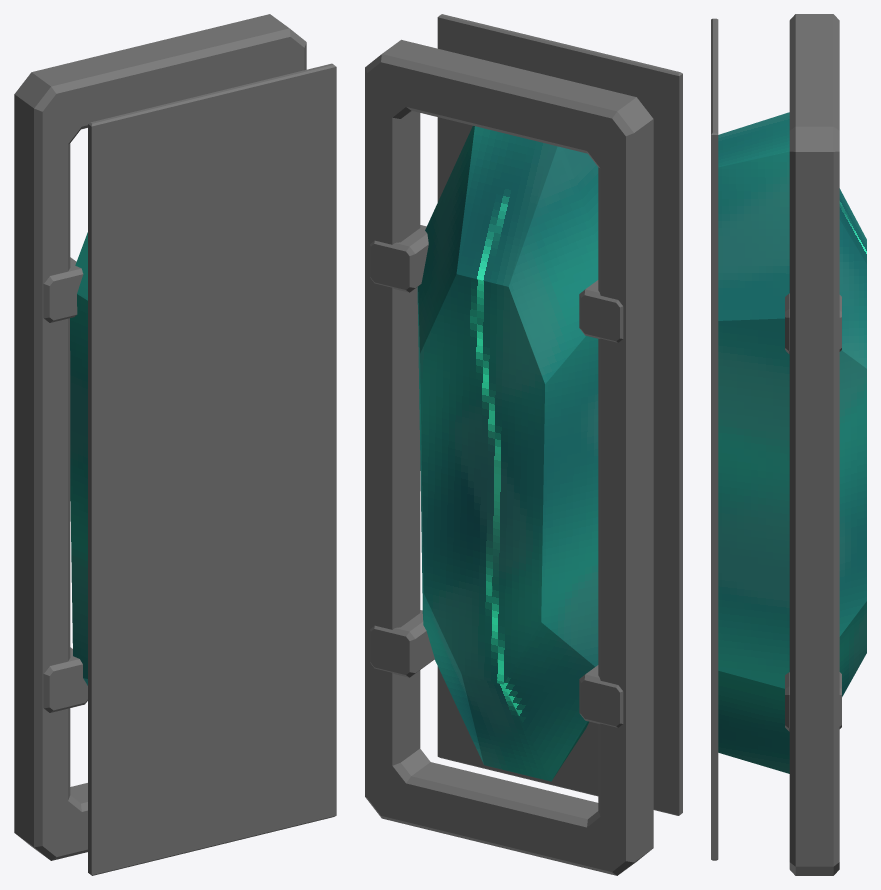
Rendered from relic.glb.
3 views of the same model, side by side, from view 1: azimuth 30°, elevation 25°; view 2: azimuth 150°, elevation 25°; view 3: azimuth 270°, elevation 25° (orthographic). The views are drawn at different scales.
Visible parts, largest first — view 1: Body.Interior, Body.Crystal; view 2: Body.Interior, Body.Crystal; view 3: Body.Crystal, Body.Interior.
Part boxes in pixels (x1=…): Body.Interior: x1=14, y1=14, x2=336, y2=875; Body.Crystal: x1=70, y1=232, x2=87, y2=685; Body.Interior: x1=365, y1=14, x2=682, y2=875; Body.Crystal: x1=417, y1=126, x2=598, y2=781; Body.Crystal: x1=718, y1=112, x2=866, y2=773; Body.Interior: x1=711, y1=14, x2=841, y2=875.
Bounding box in the file's own units: 0.16 × 0.4344 × 0.0819.
Materials: 2 (2 with a texture image).
